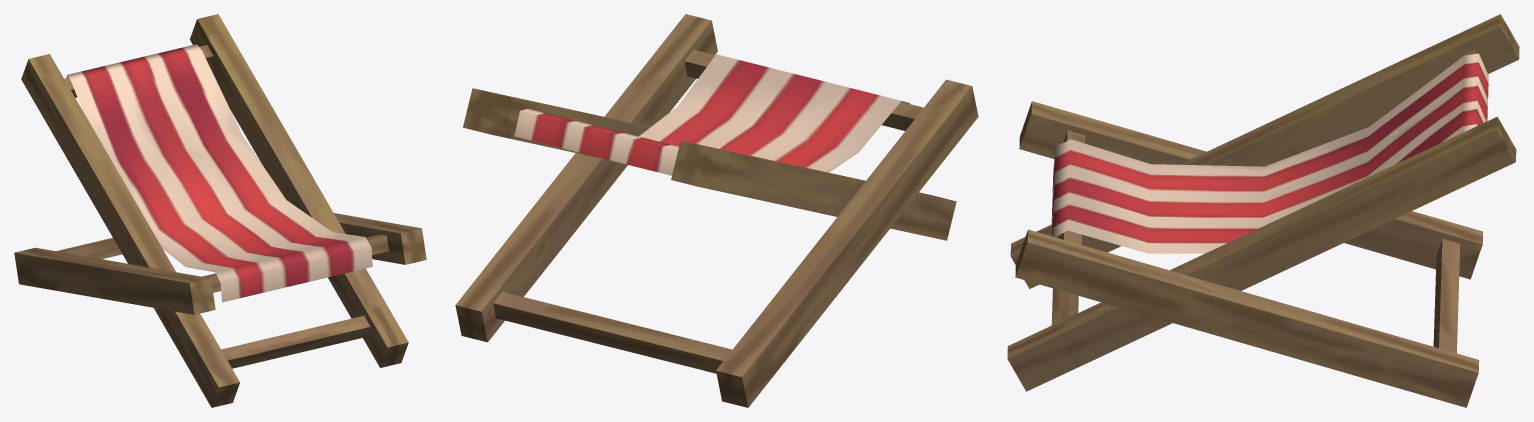
File: chair_mesh.fbx
The picture shows the model from 3 angles, left to right: view 1: azimuth 30°, elevation 25°; view 2: azimuth 150°, elevation 25°; view 3: azimuth 270°, elevation 25°; orthographic projection. The views are drawn at different scales.
Parts seen in each view (by area): view 1: chair_mesh; view 2: chair_mesh; view 3: chair_mesh.
Part boxes in pixels (bbox=[...]): chair_mesh: bbox=[14, 14, 426, 407]; chair_mesh: bbox=[455, 14, 978, 407]; chair_mesh: bbox=[1007, 14, 1519, 407].
Size of the model in its own units: 0.5667 by 0.488 by 0.8523.
